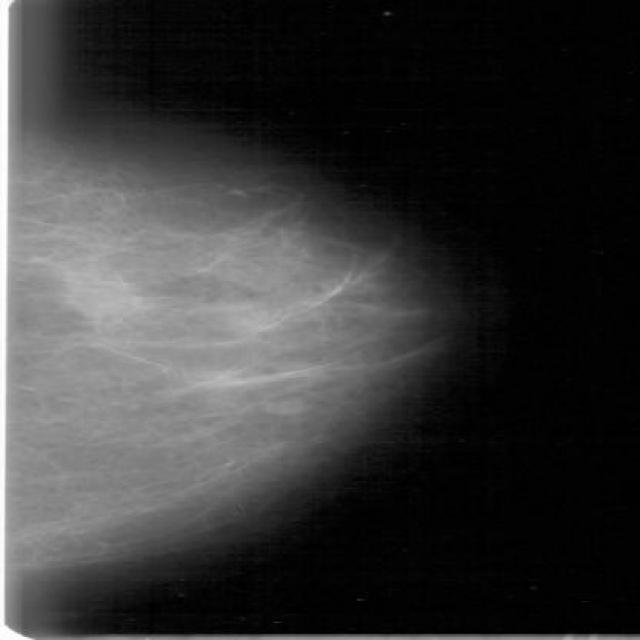tumor: (24, 176, 360, 418)
